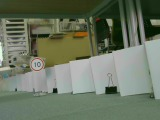speed_10: (27, 57, 46, 73)
